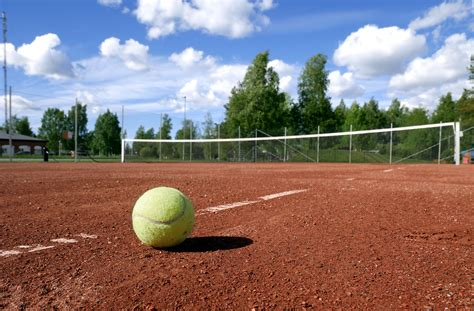tennis_ball: (131, 186, 195, 248)
